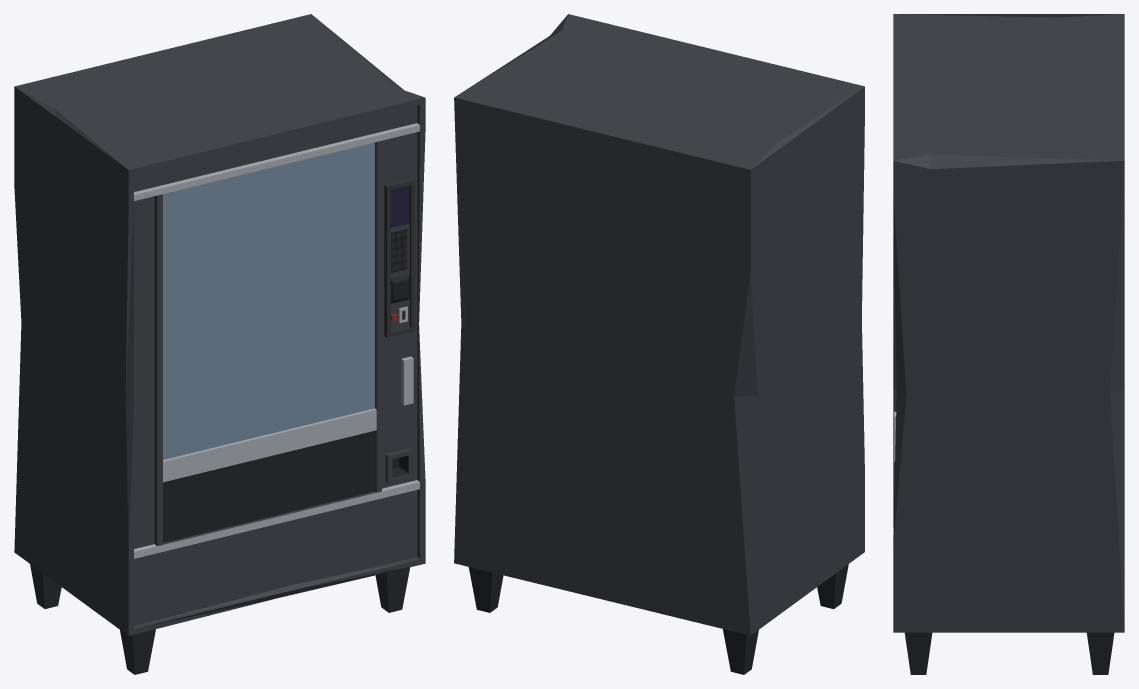
File: VendingMachine.obj
3 views of the same model, side by side, from view 1: azimuth 30°, elevation 25°; view 2: azimuth 150°, elevation 25°; view 3: azimuth 270°, elevation 25° (orthographic).
Visible parts, largest first — view 1: VendingMachine; view 2: VendingMachine; view 3: VendingMachine.
Part boxes in pixels (x1,y1,x2,y2): VendingMachine: (14, 14, 425, 674); VendingMachine: (454, 14, 864, 674); VendingMachine: (893, 14, 1124, 674).
Bounding box in the file's own units: 1.18 × 1.95 × 0.7845.
1 material, 1 textured.
